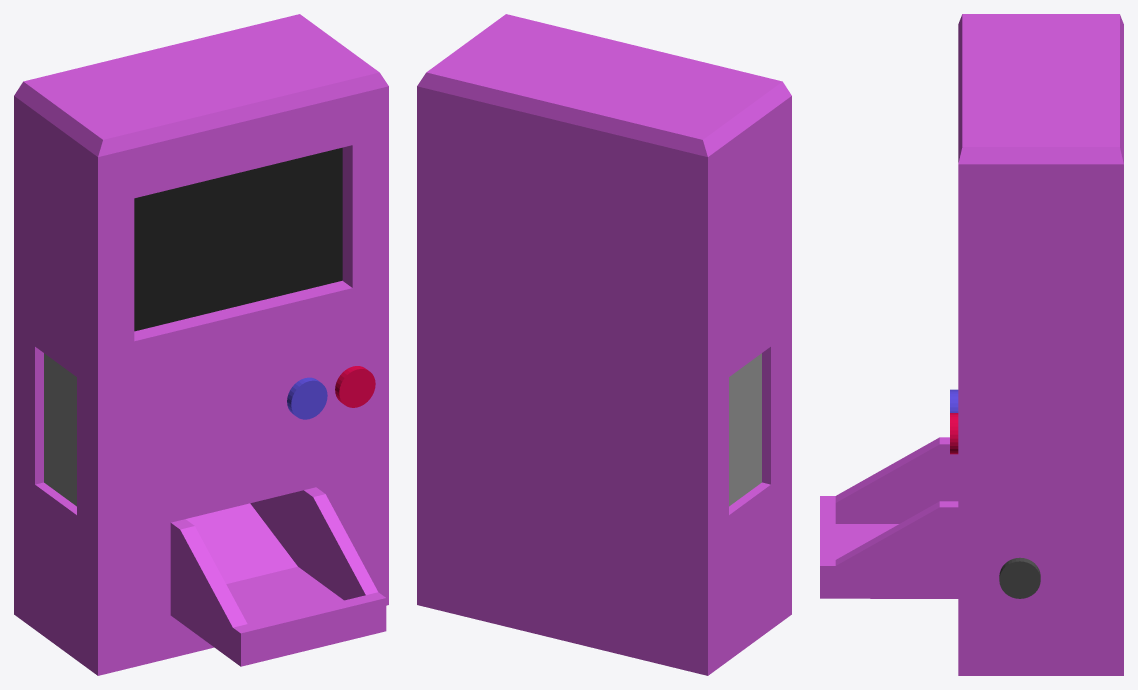
The model's file is dispenser.fbx.
3 views of the same model, side by side, from view 1: azimuth 30°, elevation 25°; view 2: azimuth 150°, elevation 25°; view 3: azimuth 270°, elevation 25° (orthographic).
Visible parts, largest first — view 1: dispenser, screen, Plane, blue button, red button; view 2: dispenser, Plane; view 3: dispenser, reset button.
Part boxes in pixels (box(x1,y1,x2,y2)): dispenser: box(14, 14, 388, 675); screen: box(134, 147, 342, 331); Plane: box(44, 353, 76, 506); blue button: box(287, 377, 327, 419); red button: box(335, 366, 375, 407); dispenser: box(417, 14, 791, 675); Plane: box(729, 353, 761, 506); dispenser: box(820, 14, 1123, 675); reset button: box(999, 557, 1040, 598).
Size of the model in its own units: 410 by 700 by 367.
